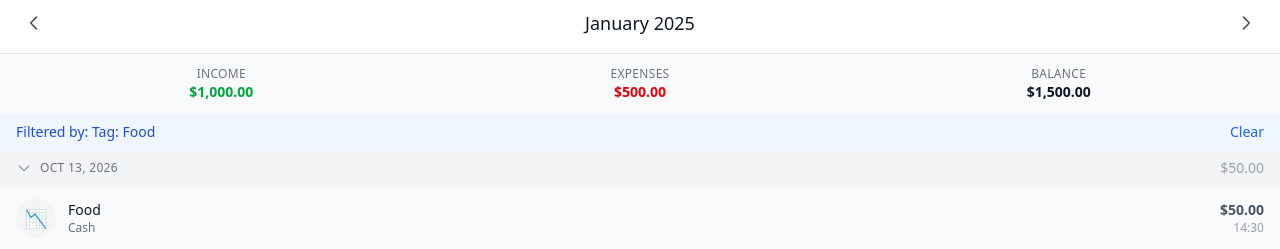
Test case: TransactionList › filter indicator › clears filter when clear button is clicked
The image size is (1280, 249).
Click the button "Clear" at (1247, 132), box [1230, 122, 1264, 142]
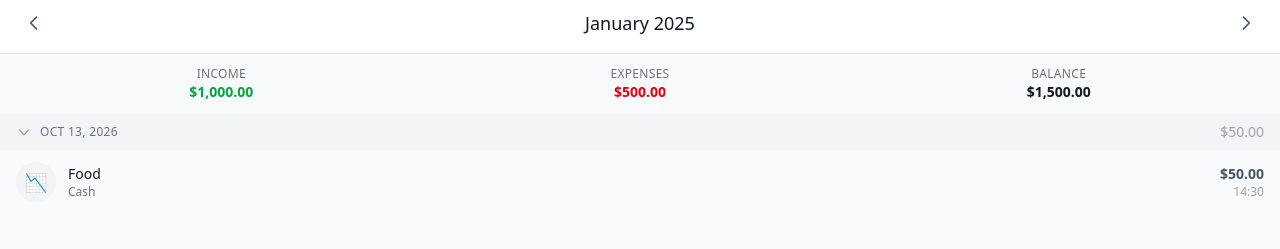
Now the text "Filtered by:" is gone
